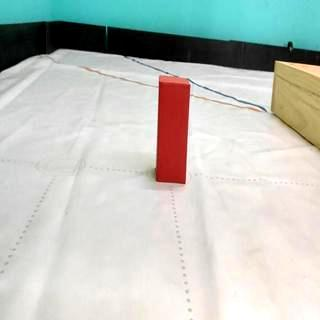redbox: (156, 74, 191, 184)
